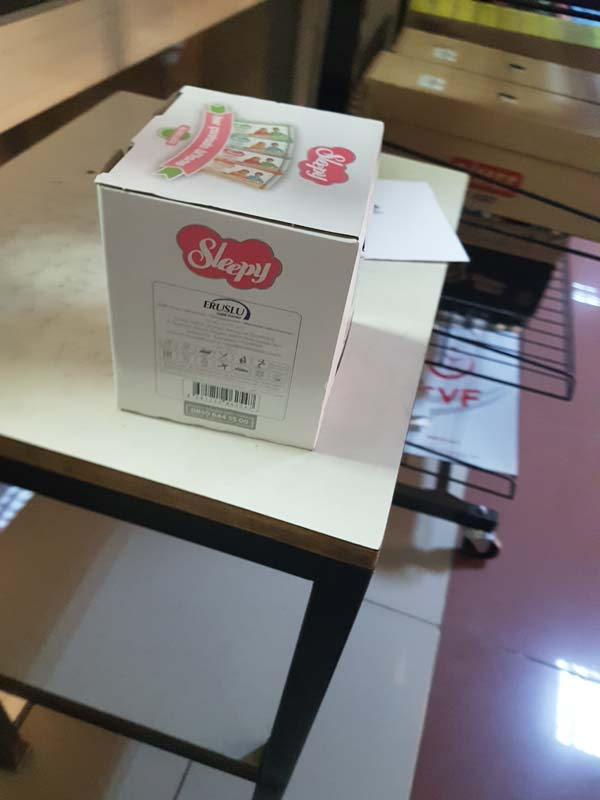sleepyogrencikoli: (90, 75, 367, 463)
